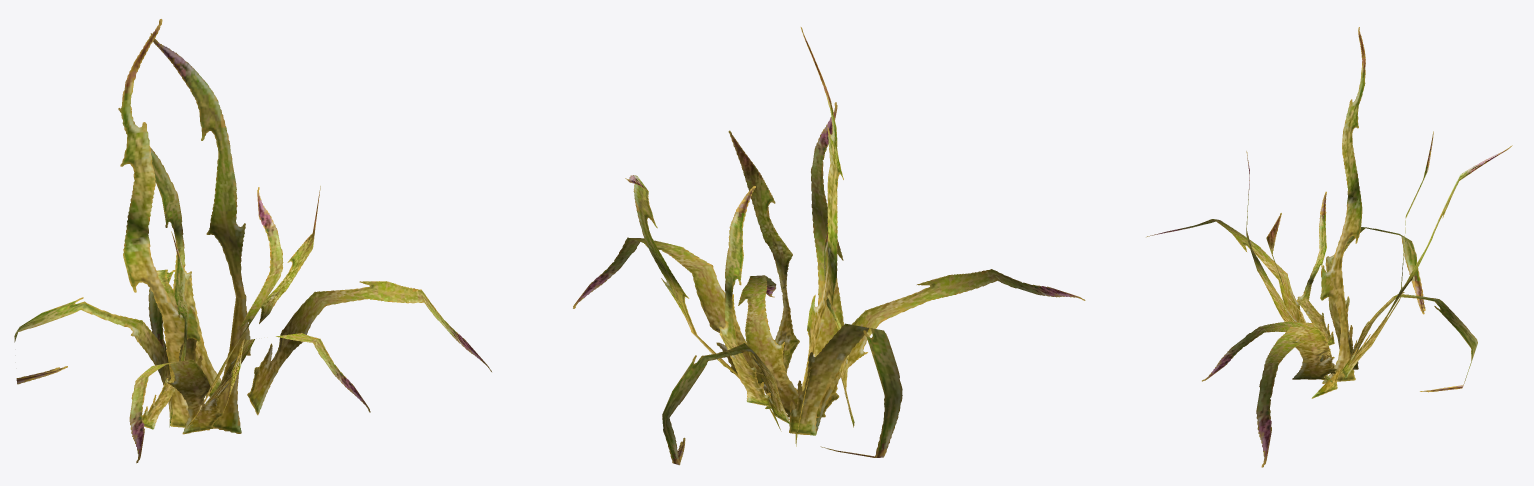
The model's file is core_leaf_razorgrass_field_a1_l0.fbx.
The picture shows the model from 3 angles, left to right: view 1: azimuth 30°, elevation 25°; view 2: azimuth 150°, elevation 25°; view 3: azimuth 270°, elevation 25°; orthographic projection. The views are drawn at different scales.
Visible parts, largest first — view 1: mesh_node; view 2: mesh_node; view 3: mesh_node.
Part boxes in pixels (x1,y1,x2,y2): mesh_node: (14,19,491,463); mesh_node: (573,27,1085,465); mesh_node: (1146,27,1512,467).
Size of the model in its own units: 1.56 by 1.41 by 1.36.
